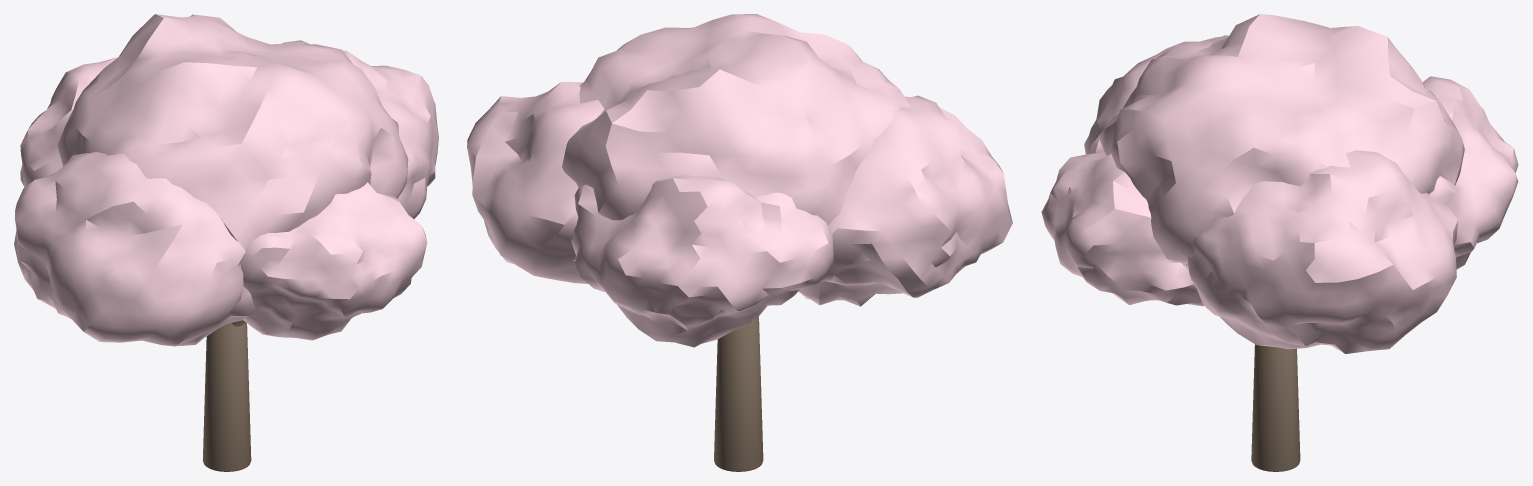
File: sakura.glb
The picture shows the model from 3 angles, left to right: view 1: azimuth 30°, elevation 25°; view 2: azimuth 150°, elevation 25°; view 3: azimuth 270°, elevation 25°; orthographic projection. The views are drawn at different scales.
Visible parts, largest first — view 1: sakura; view 2: sakura; view 3: sakura.
Part boxes in pixels (bbox=[...]): sakura: bbox=[14, 14, 438, 471]; sakura: bbox=[467, 14, 1012, 471]; sakura: bbox=[1041, 14, 1518, 471].
Size of the model in its own units: 5.19 by 4.77 by 4.85.
